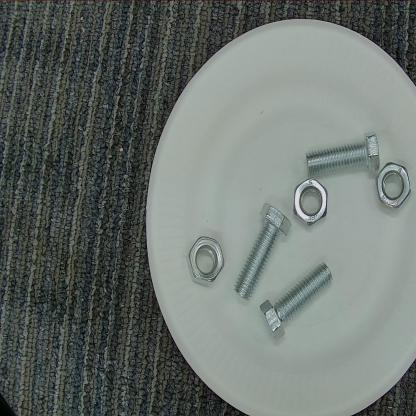FOD: (257, 260, 343, 342), (230, 200, 291, 304), (300, 128, 384, 177), (286, 173, 337, 230), (373, 154, 413, 218), (184, 232, 225, 288)
